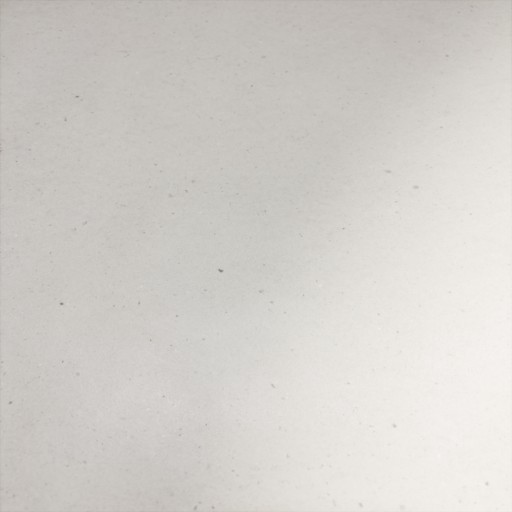lego: (246, 230, 266, 281)
